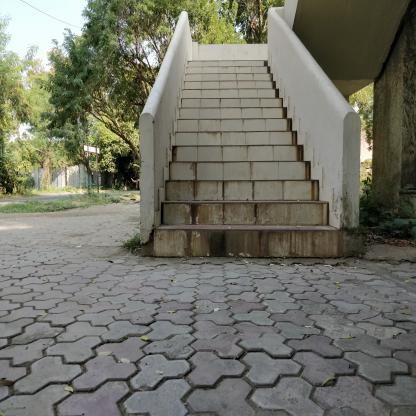stairs: (189, 59, 270, 275)
